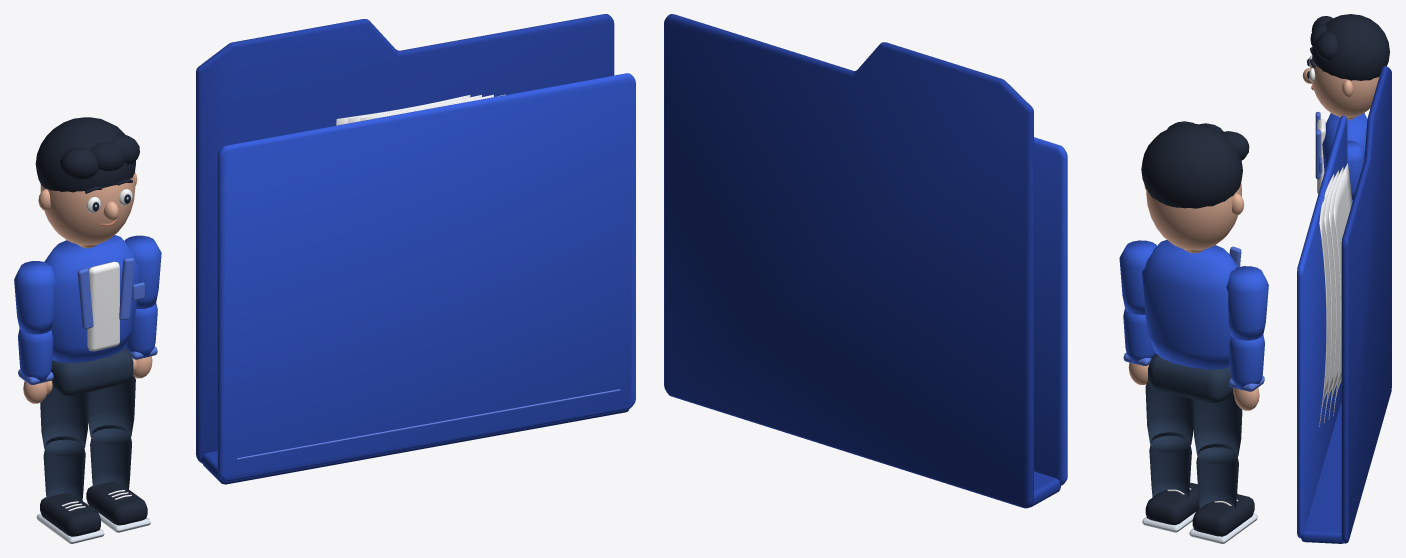
Rendered from portfolio-scene-v1.glb.
The picture shows the model from 3 angles, left to right: view 1: azimuth 30°, elevation 25°; view 2: azimuth 150°, elevation 25°; view 3: azimuth 270°, elevation 25°; orthographic projection. The views are drawn at different scales.
Visible parts, largest first — view 1: folder_front_surface, folder_back_surface, jacket_body, hair_cap, face, thigh_mesh_left, upper_sleeve_left, waist, white_shirt, thigh_mesh_right, calf_mesh_left, shoe_right (+10 smaller); view 2: folder_back_surface, folder_front_surface, jacket_body, hair_cap, face, thigh_mesh_left, upper_sleeve_left, waist, thigh_mesh_right, calf_mesh_right, calf_mesh_left, upper_sleeve_right (+4 smaller); view 3: folder_back_surface, folder_front_surface, hair_cap, folder_spine, face, paper_surface_0, paper_surface_1, paper_surface_2, paper_surface_3, jacket_body, upper_sleeve_right, fringe_2 (+5 smaller).
Part boxes in pixels (left/top/right/bottom): folder_front_surface: left=217, top=73, right=635, bottom=481; folder_back_surface: left=196, top=14, right=614, bottom=463; jacket_body: left=44, top=235, right=139, bottom=362; hair_cap: left=35, top=117, right=135, bottom=192; face: left=40, top=175, right=135, bottom=245; thigh_mesh_left: left=40, top=389, right=89, bottom=456; upper_sleeve_left: left=14, top=261, right=55, bottom=334; waist: left=51, top=348, right=133, bottom=396; white_shirt: left=87, top=261, right=119, bottom=351; thigh_mesh_right: left=88, top=374, right=135, bottom=444; calf_mesh_left: left=43, top=436, right=85, bottom=501; shoe_right: left=86, top=481, right=147, bottom=525; folder_back_surface: left=664, top=14, right=1033, bottom=508; folder_front_surface: left=1034, top=137, right=1067, bottom=485; jacket_body: left=1142, top=240, right=1237, bottom=369; hair_cap: left=1141, top=123, right=1242, bottom=208; face: left=1146, top=182, right=1241, bottom=250; thigh_mesh_left: left=1192, top=393, right=1242, bottom=463; upper_sleeve_left: left=1226, top=266, right=1268, bottom=340; waist: left=1148, top=354, right=1233, bottom=403; thigh_mesh_right: left=1145, top=381, right=1193, bottom=452; calf_mesh_right: left=1149, top=432, right=1191, bottom=497; calf_mesh_left: left=1196, top=443, right=1238, bottom=509; upper_sleeve_right: left=1119, top=240, right=1156, bottom=314; folder_back_surface: left=1341, top=66, right=1391, bottom=543; folder_front_surface: left=1297, top=115, right=1347, bottom=538; hair_cap: left=1311, top=14, right=1389, bottom=80; folder_spine: left=1301, top=401, right=1343, bottom=543; face: left=1310, top=57, right=1379, bottom=117; paper_surface_0: left=1333, top=163, right=1352, bottom=415; paper_surface_1: left=1328, top=167, right=1343, bottom=419; paper_surface_2: left=1324, top=170, right=1338, bottom=423; paper_surface_3: left=1319, top=173, right=1334, bottom=426; jacket_body: left=1322, top=113, right=1367, bottom=171; upper_sleeve_right: left=1347, top=140, right=1364, bottom=199; fringe_2: left=1315, top=31, right=1337, bottom=60.
Bounding box in the file's own units: 4.36 × 2.93 × 0.7399.
